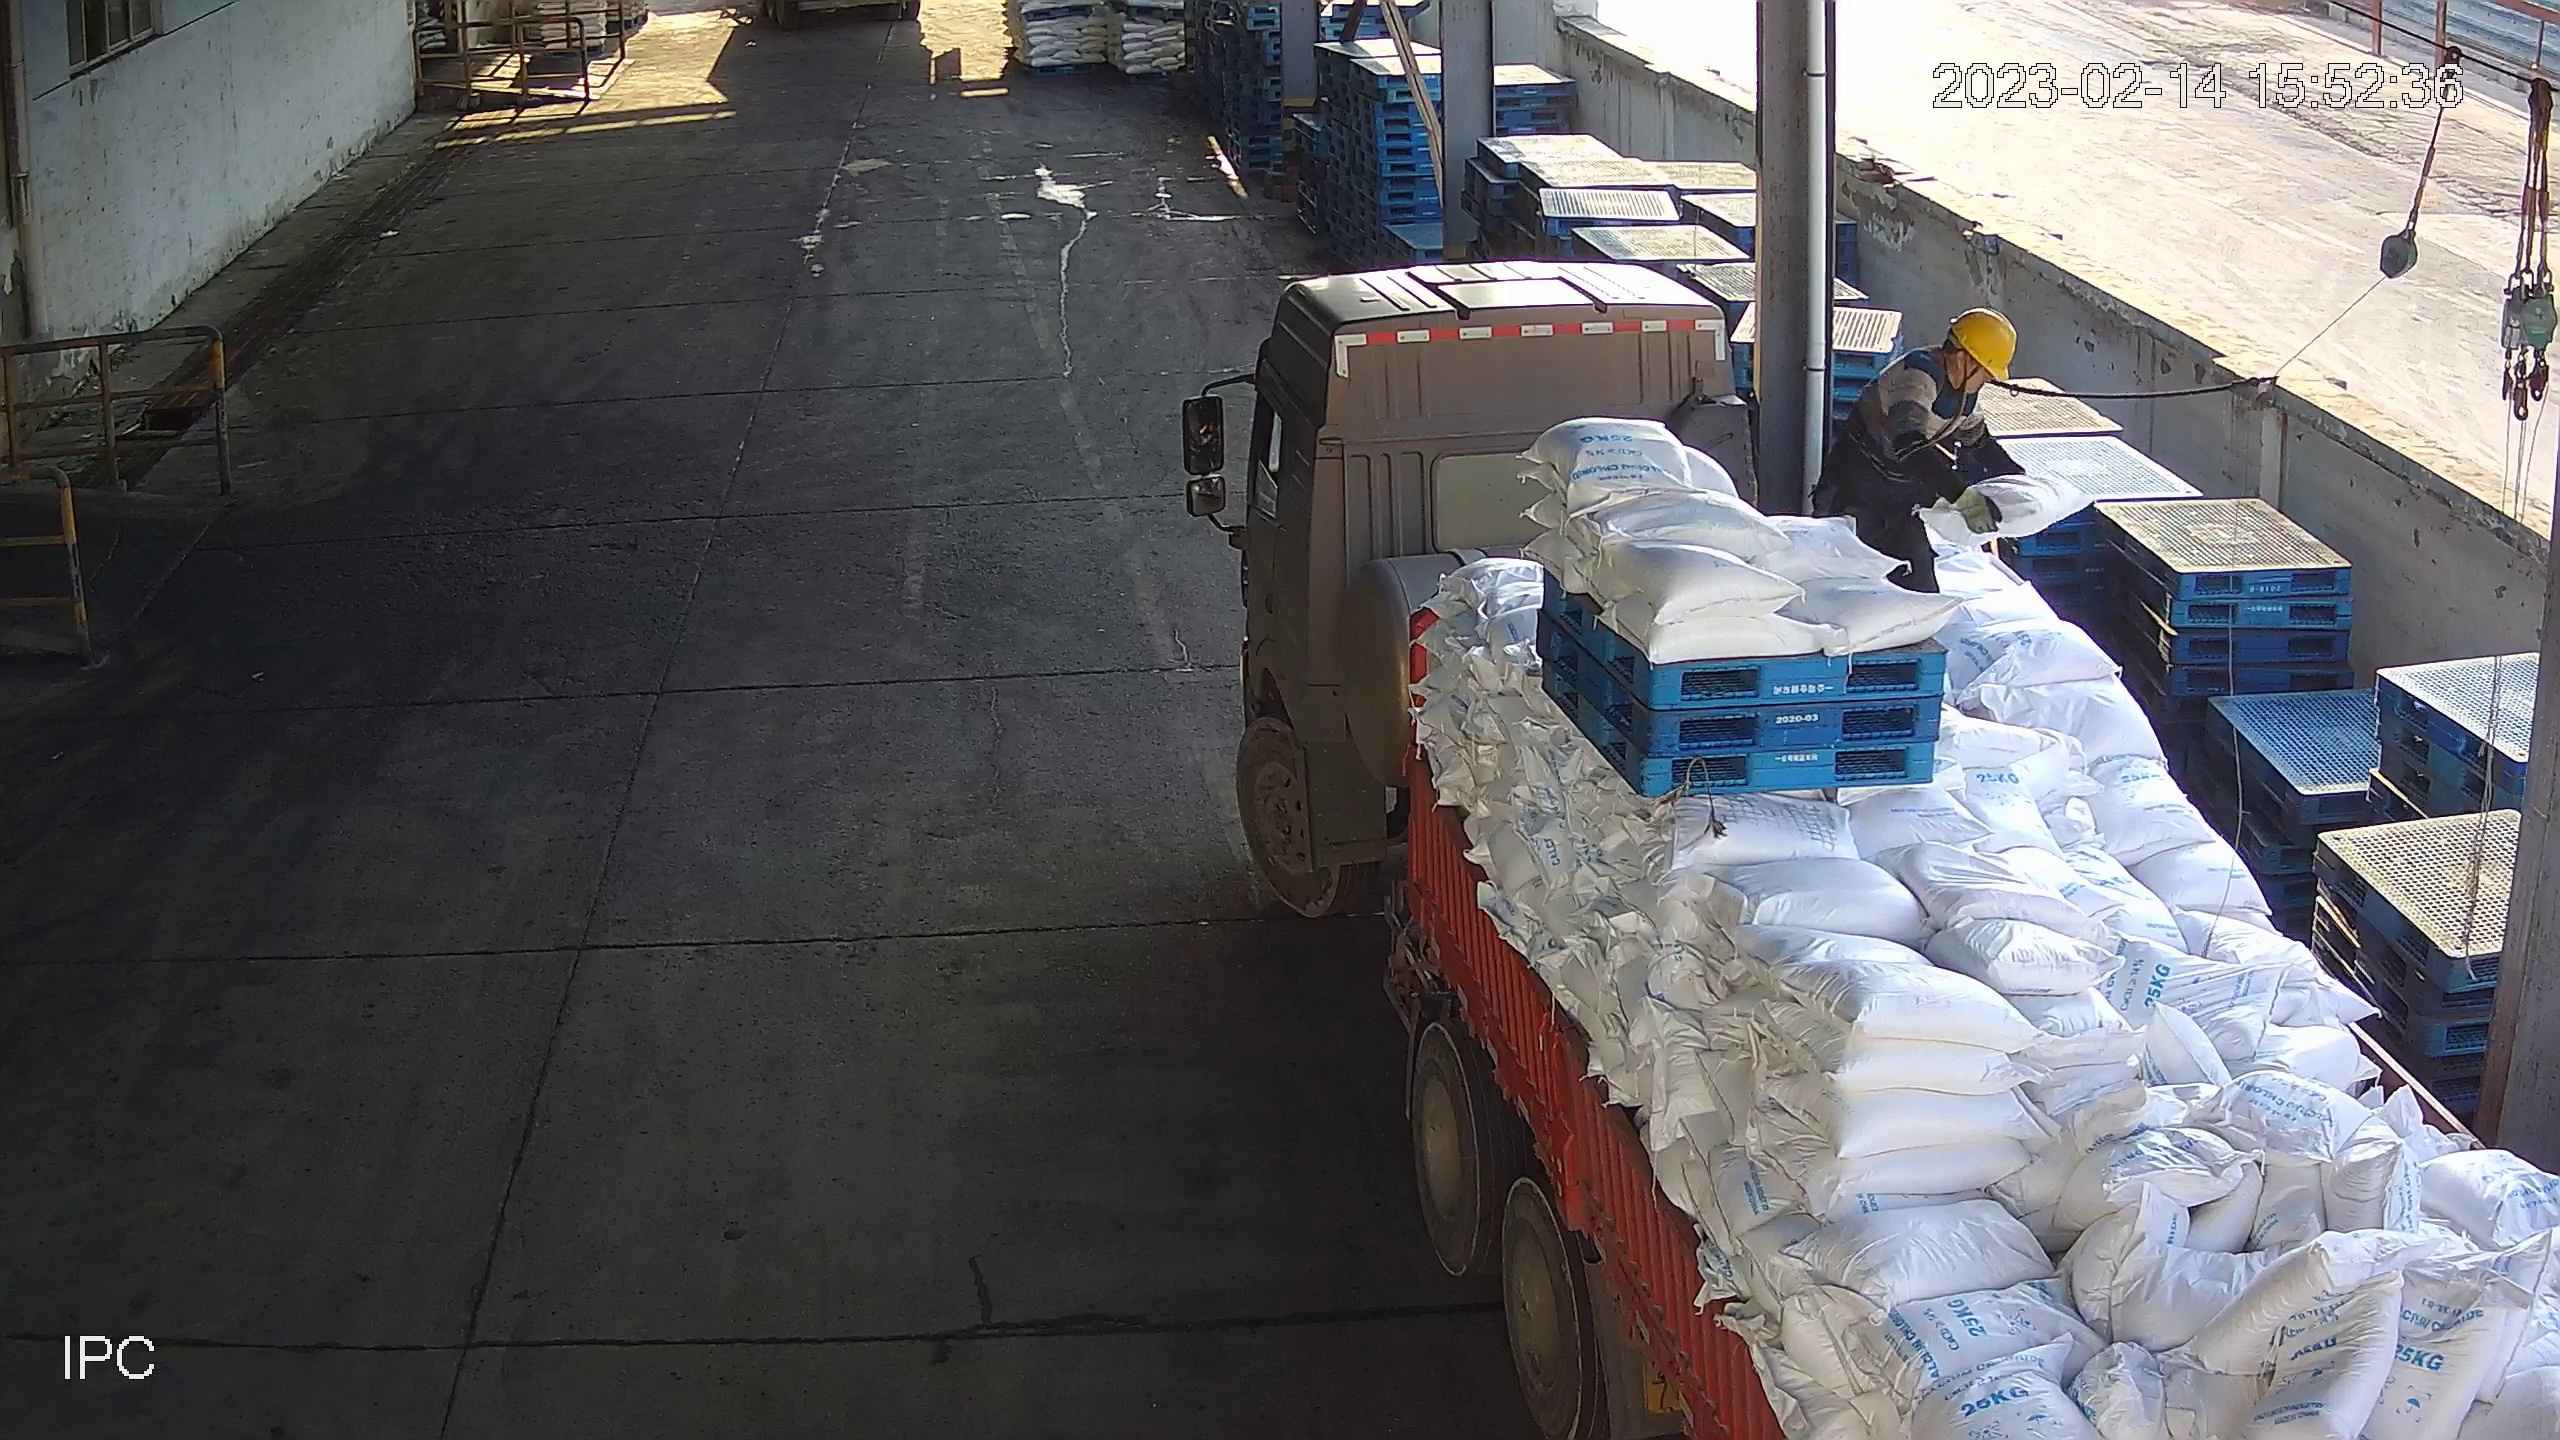head: (1874, 307, 2018, 441)
helmet: (1952, 310, 2017, 381)
people: (1815, 300, 2035, 600)
truck: (1154, 250, 2560, 1440)
